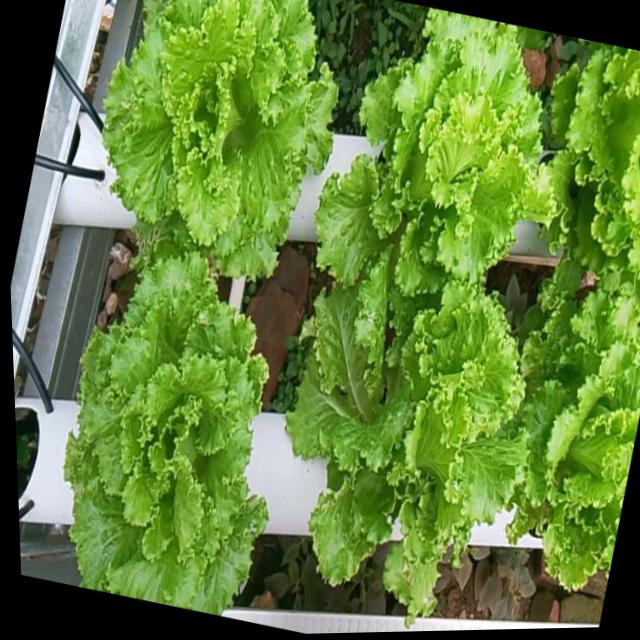Mature: (292, 296, 532, 628), (73, 249, 276, 617), (323, 12, 553, 329), (113, 0, 346, 286), (515, 306, 640, 607), (558, 46, 640, 302)
